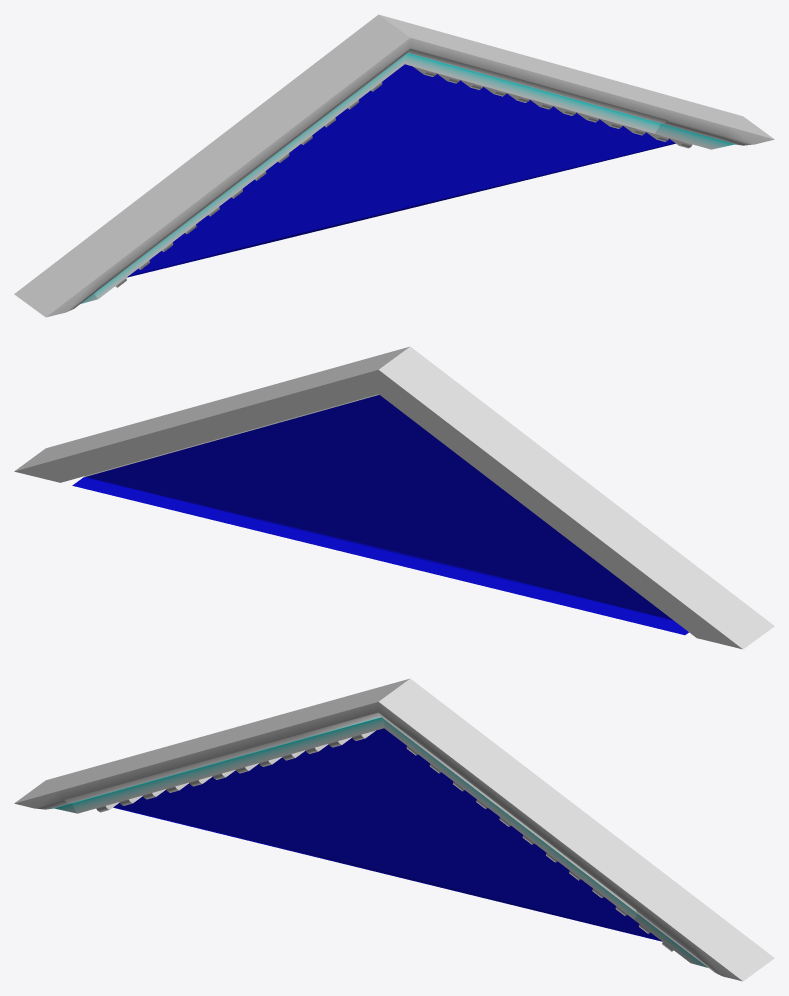
The model's file is SM_RoofEnd12m.fbx.
3 views of the same model, one above another, from view 1: azimuth 30°, elevation 25°; view 2: azimuth 150°, elevation 25°; view 3: azimuth 330°, elevation 25° (orthographic).
Visible parts, largest first — view 1: SM_RoofEnd12m; view 2: SM_RoofEnd12m; view 3: SM_RoofEnd12m.
Boxes of the visible parts, x1=… form: SM_RoofEnd12m: x1=14, y1=14, x2=774, y2=317; SM_RoofEnd12m: x1=14, y1=346, x2=774, y2=649; SM_RoofEnd12m: x1=14, y1=678, x2=774, y2=981.
Size of the model in its own units: 1404 by 351 by 106.
